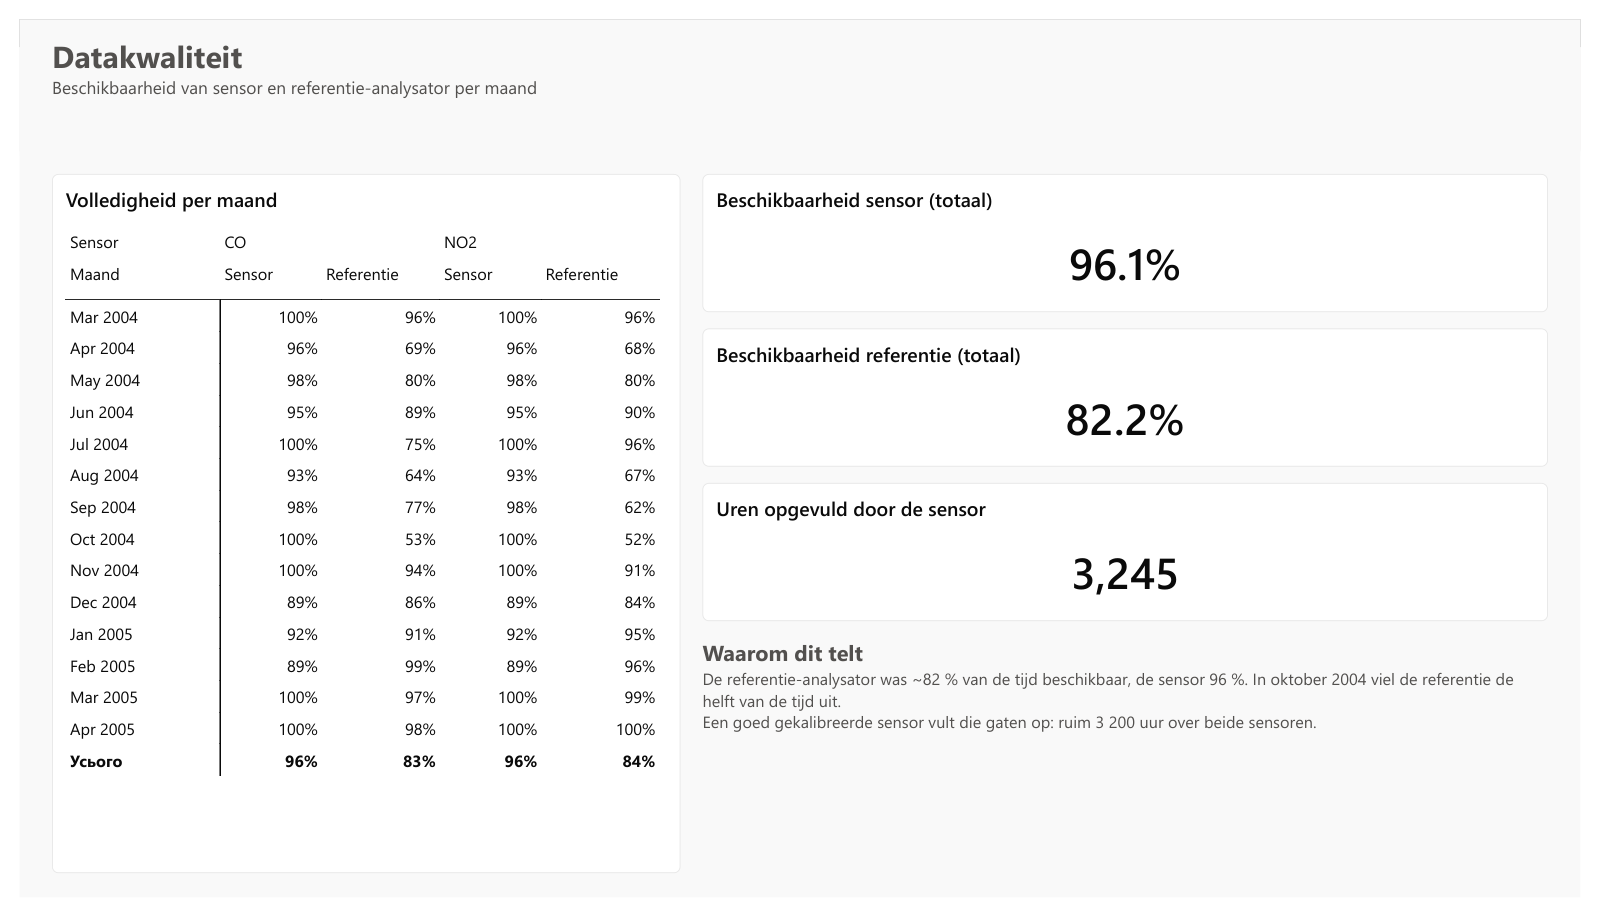

Layout of this report page (visuals, bound fields, positions):
{"tool":"powerbi","page":{"name":"Datakwaliteit","canvas":[1920,1080],"ordinal":3},"visuals":[{"type":"textbox","box":[40,20,1840,130],"z":0},{"type":"pivotTable","title":"Volledigheid per maand","fields":{"Columns":["maandkwaliteit.sensor"],"Rows":["maandkwaliteit.maand"],"Values":["Avg(maandkwaliteit.volledigheid_sensor)","Avg(maandkwaliteit.volledigheid_referentie)"]},"box":[40.3,189.8,772.5,859.8],"z":1000},{"type":"card","title":"Beschikbaarheid sensor (totaal)","fields":{"Values":["_Measures.Volledigheid sensor"]},"box":[840,190,1040,170],"z":2000},{"type":"card","title":"Beschikbaarheid referentie (totaal)","fields":{"Values":["_Measures.Volledigheid referentie"]},"box":[840,380,1040,170],"z":3000},{"type":"card","title":"Uren opgevuld door de sensor","fields":{"Values":["_Measures.Uren opgevuld door sensor"]},"box":[840,570,1040,170],"z":4000},{"type":"textbox","box":[840,760,1040,290],"z":5000}]}

Visuals, with their boxes in screenshot pixels (x1, y1, x2, y2), scaled from the page's 1920x1080 canvas onto the 1600x918 screenshot:
textbox: l=33, t=17, r=1567, b=128
"Volledigheid per maand" pivotTable: l=34, t=161, r=677, b=892
"Beschikbaarheid sensor (totaal)" card: l=700, t=162, r=1567, b=306
"Beschikbaarheid referentie (totaal)" card: l=700, t=323, r=1567, b=468
"Uren opgevuld door de sensor" card: l=700, t=484, r=1567, b=629
textbox: l=700, t=646, r=1567, b=892
